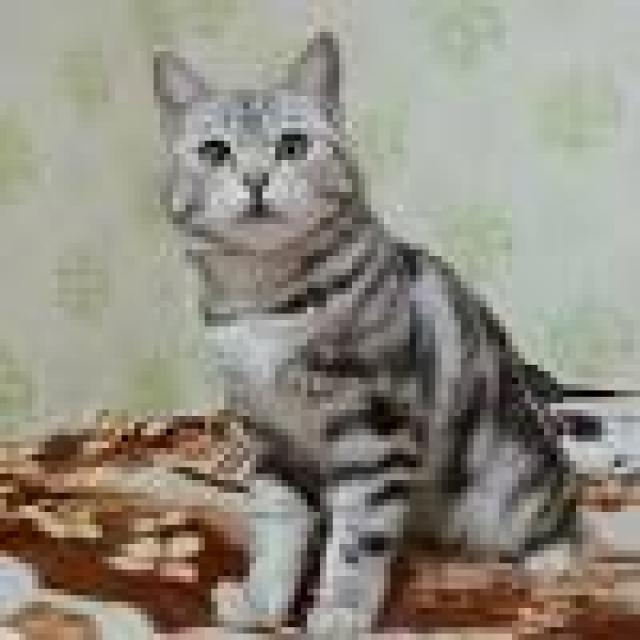cat-face: (104, 34, 404, 262)
